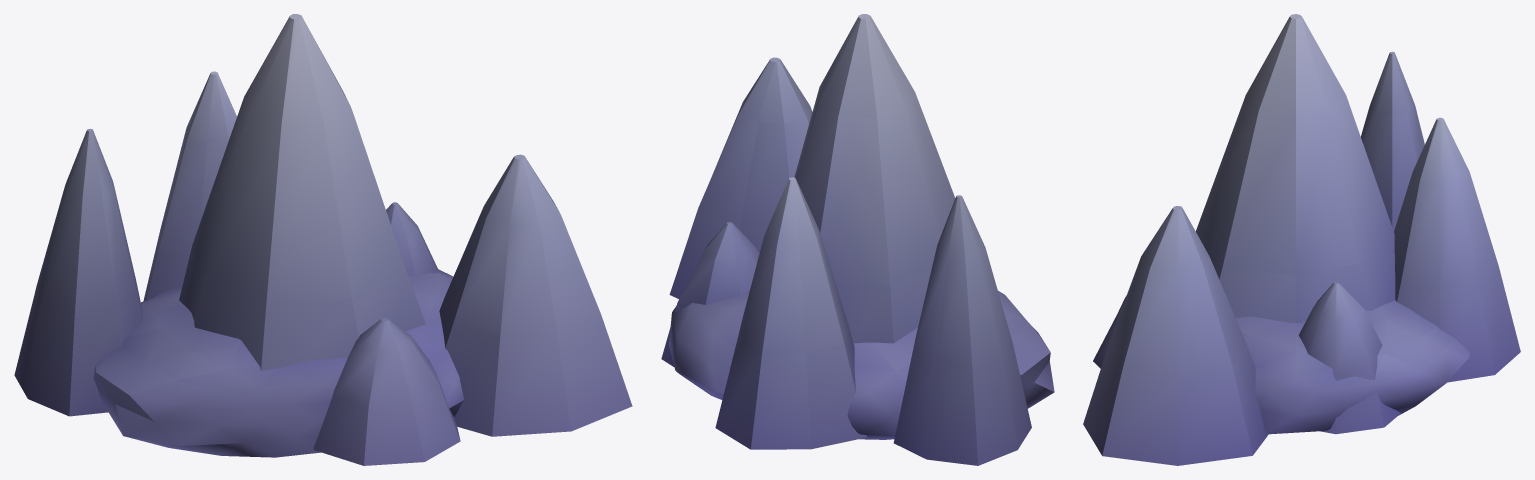
The model's file is verdant_cave_stalagmite_b.glb.
3 views of the same model, side by side, from view 1: azimuth 30°, elevation 25°; view 2: azimuth 150°, elevation 25°; view 3: azimuth 270°, elevation 25° (orthographic). The views are drawn at different scales.
Visible parts, largest first — view 1: verdant_cave_stalagmite_b; view 2: verdant_cave_stalagmite_b; view 3: verdant_cave_stalagmite_b.
Boxes of the visible parts, bbox=[...] form: verdant_cave_stalagmite_b: bbox=[14, 14, 632, 465]; verdant_cave_stalagmite_b: bbox=[661, 14, 1054, 465]; verdant_cave_stalagmite_b: bbox=[1083, 14, 1520, 465].
Bounding box in the file's own units: 1.99 × 1.55 × 1.77.
